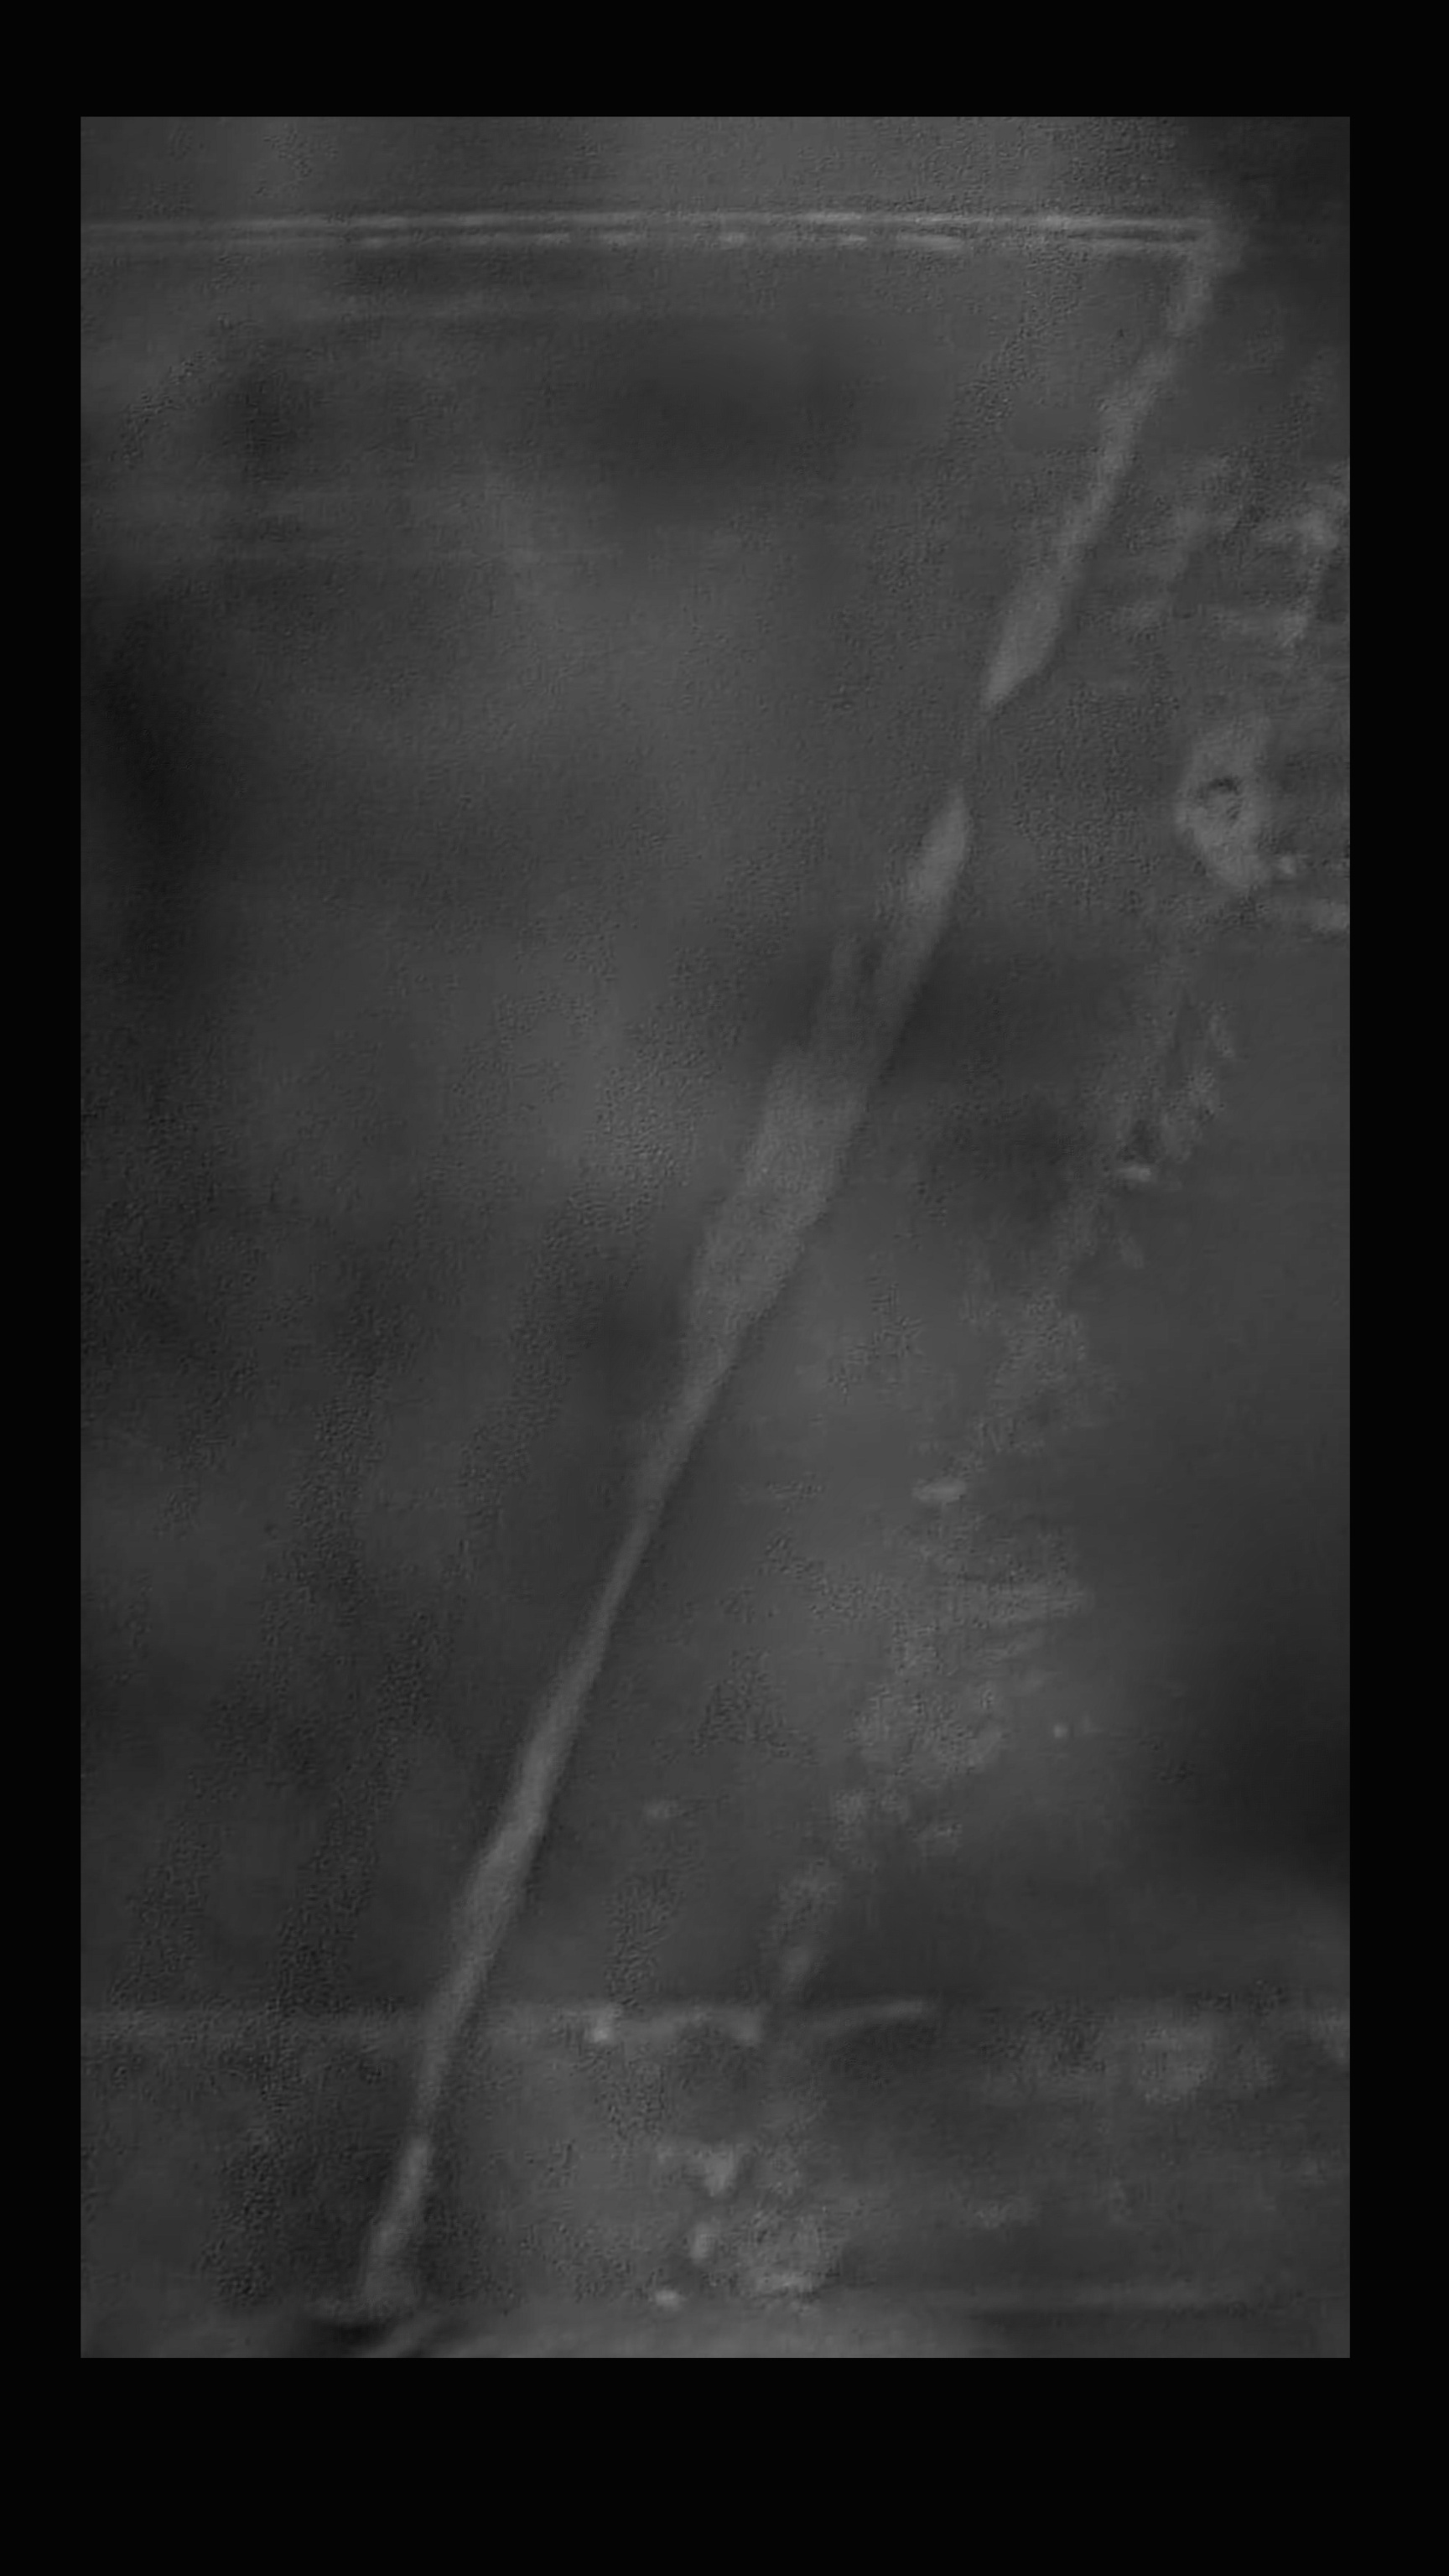splice_vulcanized: (246, 115, 1348, 2357)
